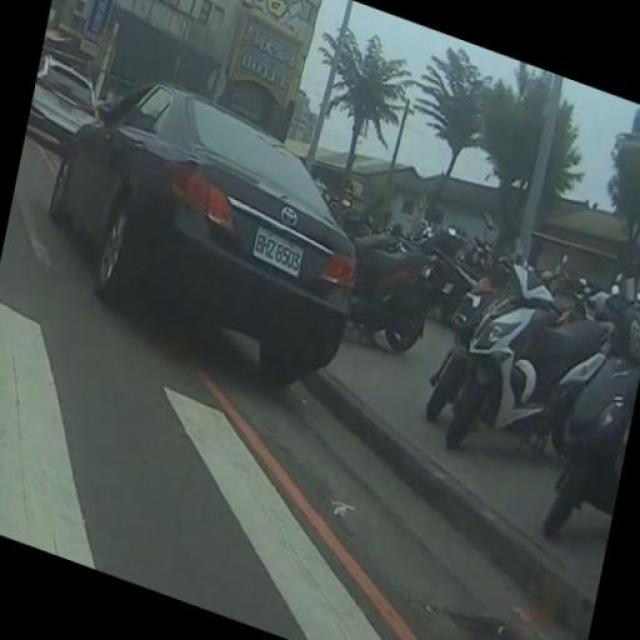Legalparking: (359, 175, 640, 509)
illegalparking: (58, 62, 380, 378)
